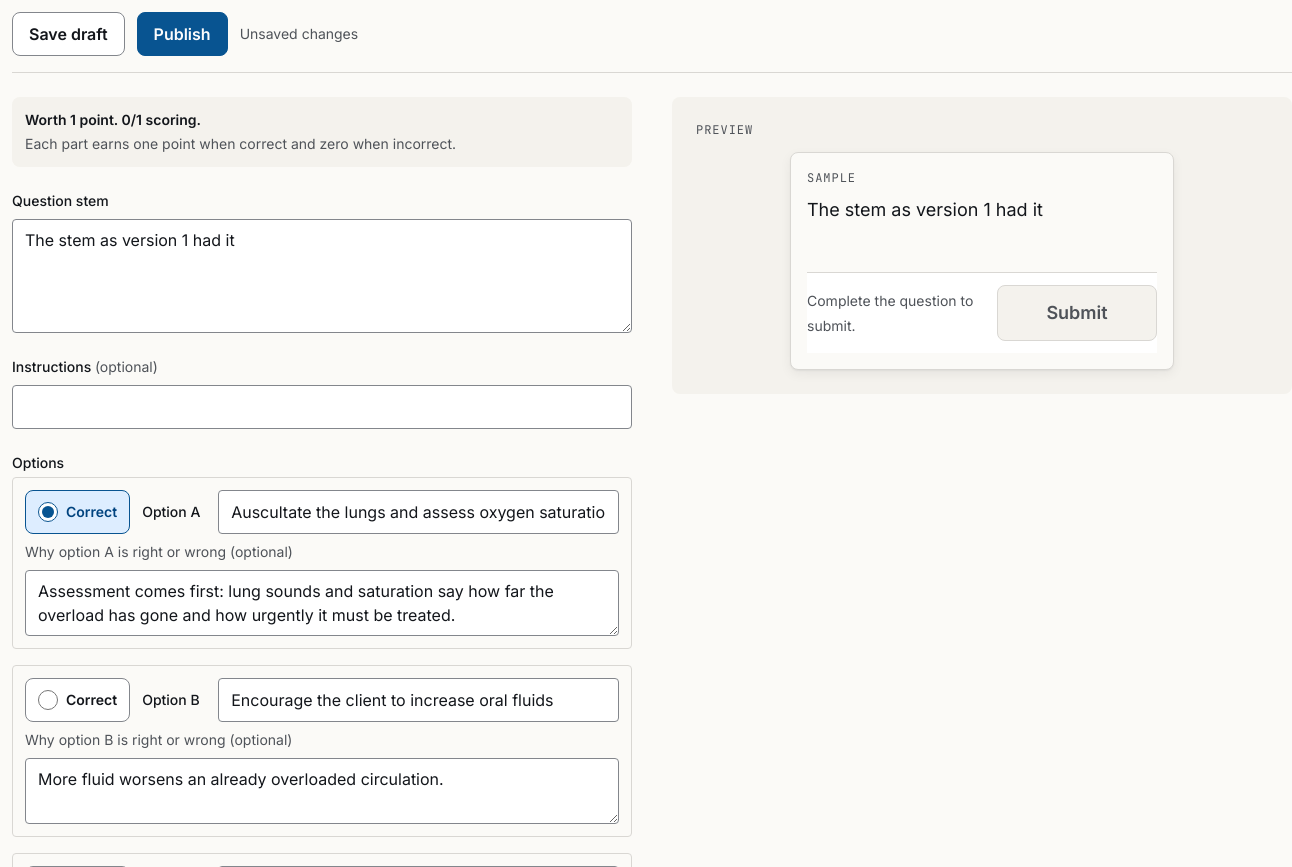
Test: an editor opened on a restored version › shows the version as unsaved changes against the saved draft
The image size is (1292, 867).
expect the text box labelled "Question stem" holds "The stem as version 1 had it": met, box [12, 219, 632, 333]
expect the text "Unsaved changes" is shown: met, box [240, 24, 358, 44]
# Saving the restored version makes it the draft, and nothing is left unsaved.
Step 1. Click the button "Save draft" → (68, 34), box [12, 12, 125, 56]
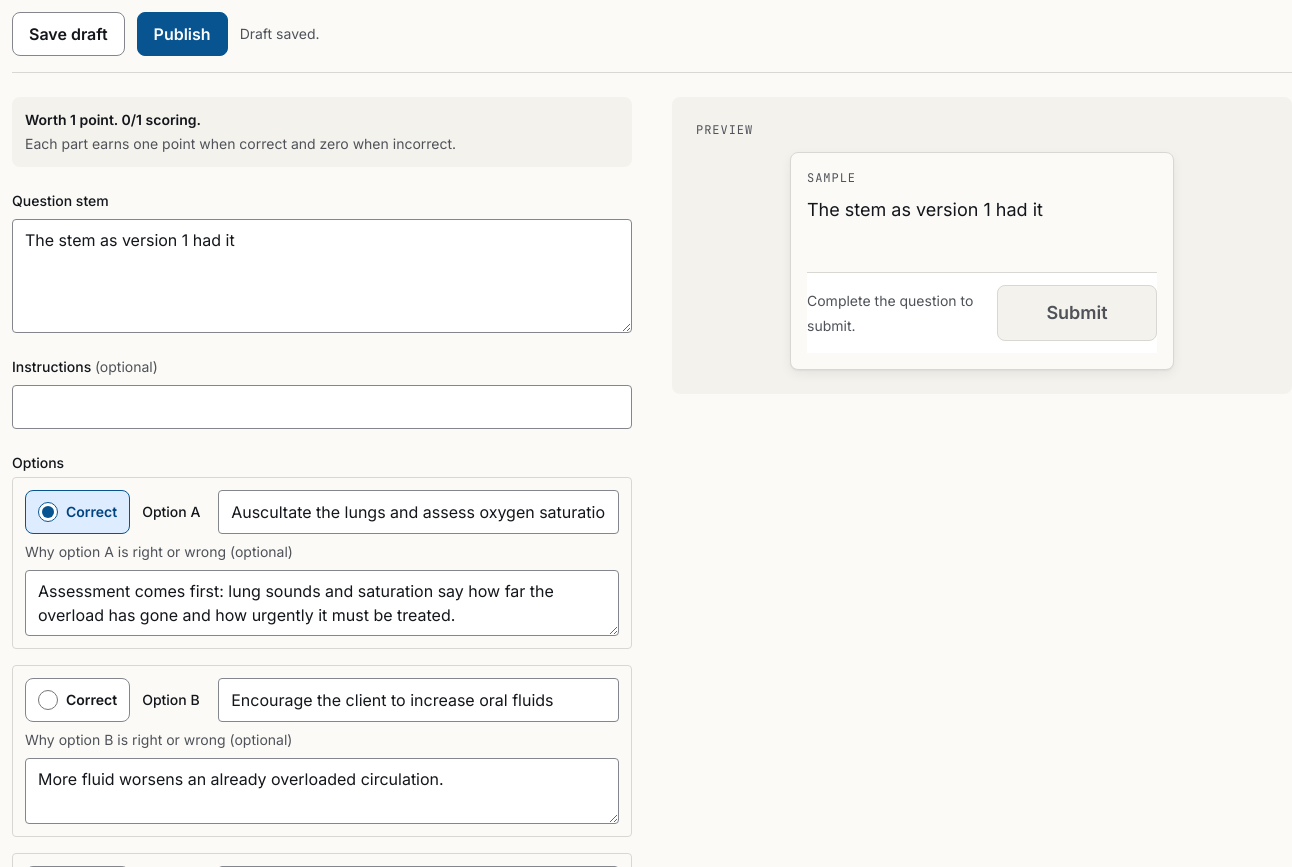
expect the text "Draft saved." is shown: met, box [240, 24, 320, 44]
expect the text "Unsaved changes" is gone: met
